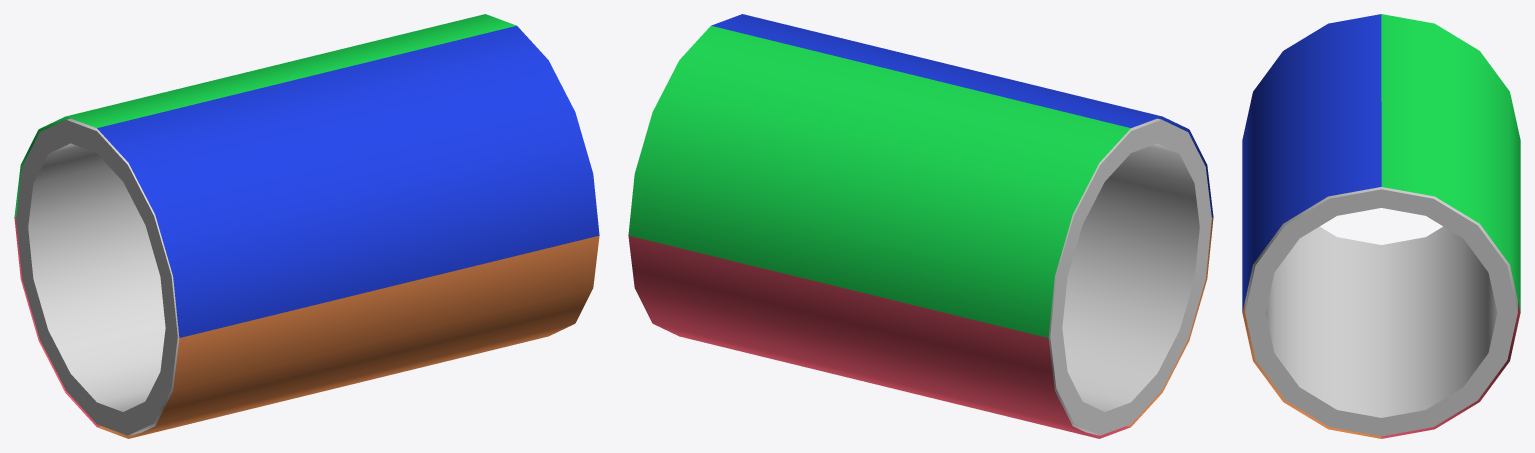
Rendered from Arm Info.fbx.
The picture shows the model from 3 angles, left to right: view 1: azimuth 30°, elevation 25°; view 2: azimuth 150°, elevation 25°; view 3: azimuth 270°, elevation 25°; orthographic projection. The views are drawn at different scales.
Parts seen in each view (by area): view 1: Arm Info; view 2: Arm Info; view 3: Arm Info.
Boxes of the visible parts, <box> form: Arm Info: <box>14,14,599,438</box>; Arm Info: <box>628,14,1213,438</box>; Arm Info: <box>1242,14,1520,438</box>.
Bounding box in the file's own units: 0.6 × 0.408 × 0.408.
